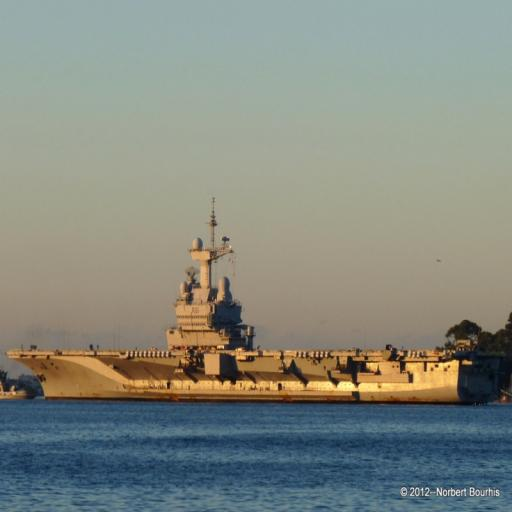Portanaves: (6, 194, 509, 407)
